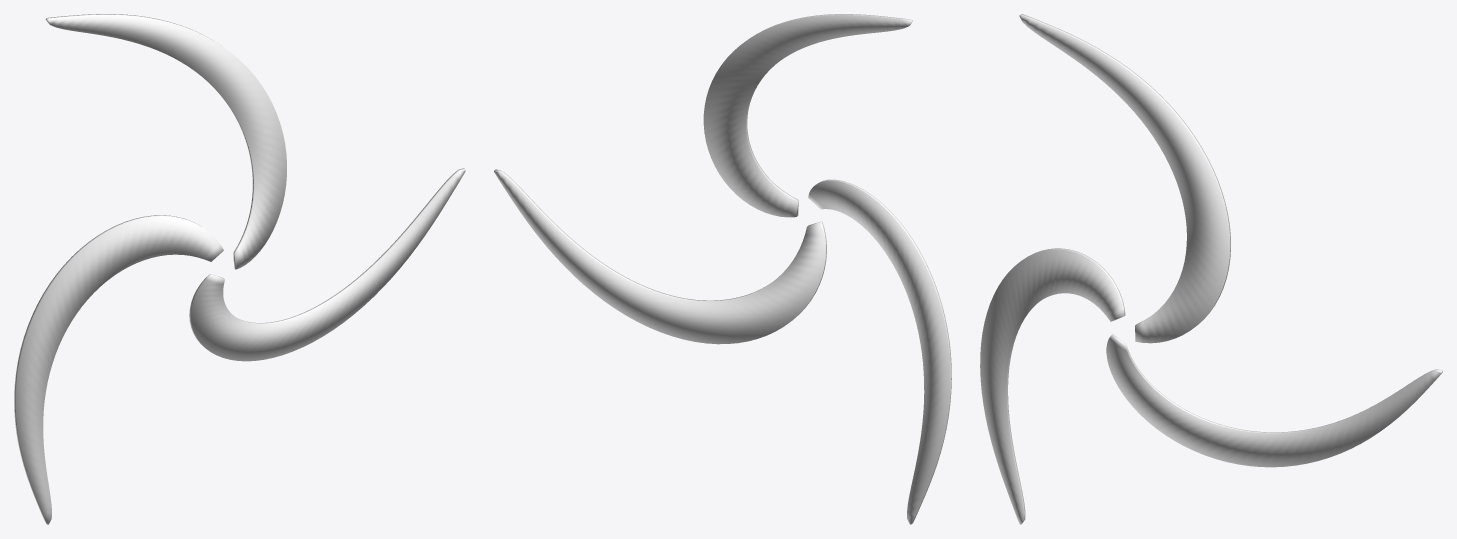
The model's file is GateVortexB.fbx.
3 views of the same model, side by side, from view 1: azimuth 30°, elevation 25°; view 2: azimuth 150°, elevation 25°; view 3: azimuth 330°, elevation 25° (orthographic).
Visible parts, largest first — view 1: GateVortexB; view 2: GateVortexB; view 3: GateVortexB.
Part boxes in pixels (x1,y1,x2,y2): GateVortexB: (14, 14, 465, 524); GateVortexB: (494, 14, 951, 524); GateVortexB: (980, 14, 1442, 524).
Size of the model in its own units: 10.66 by 11.36 by 1.56.
Materials: 1 (1 with a texture image).
